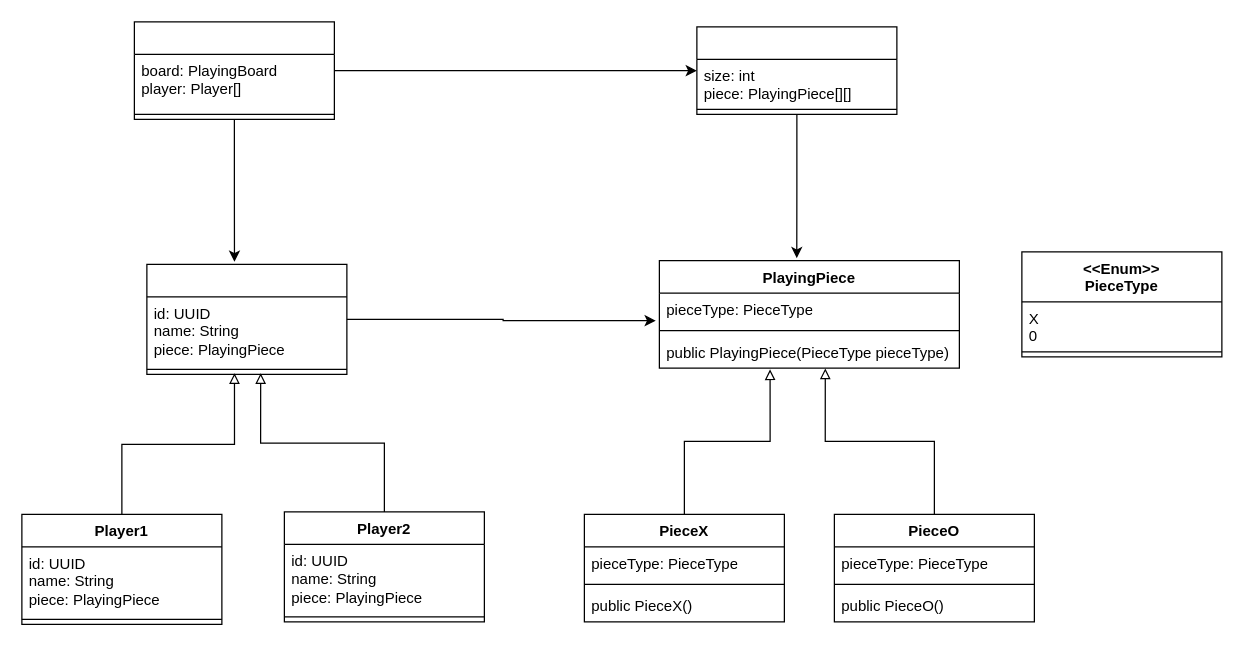
This 1244x648 diagram has some shape labels left out. The box of each missing label's shape, as (x1, y1, x2, y2) in pixels:
Game: (133, 21, 334, 119)
Player: (146, 263, 347, 374)
PlayingBoard: (696, 26, 897, 114)
